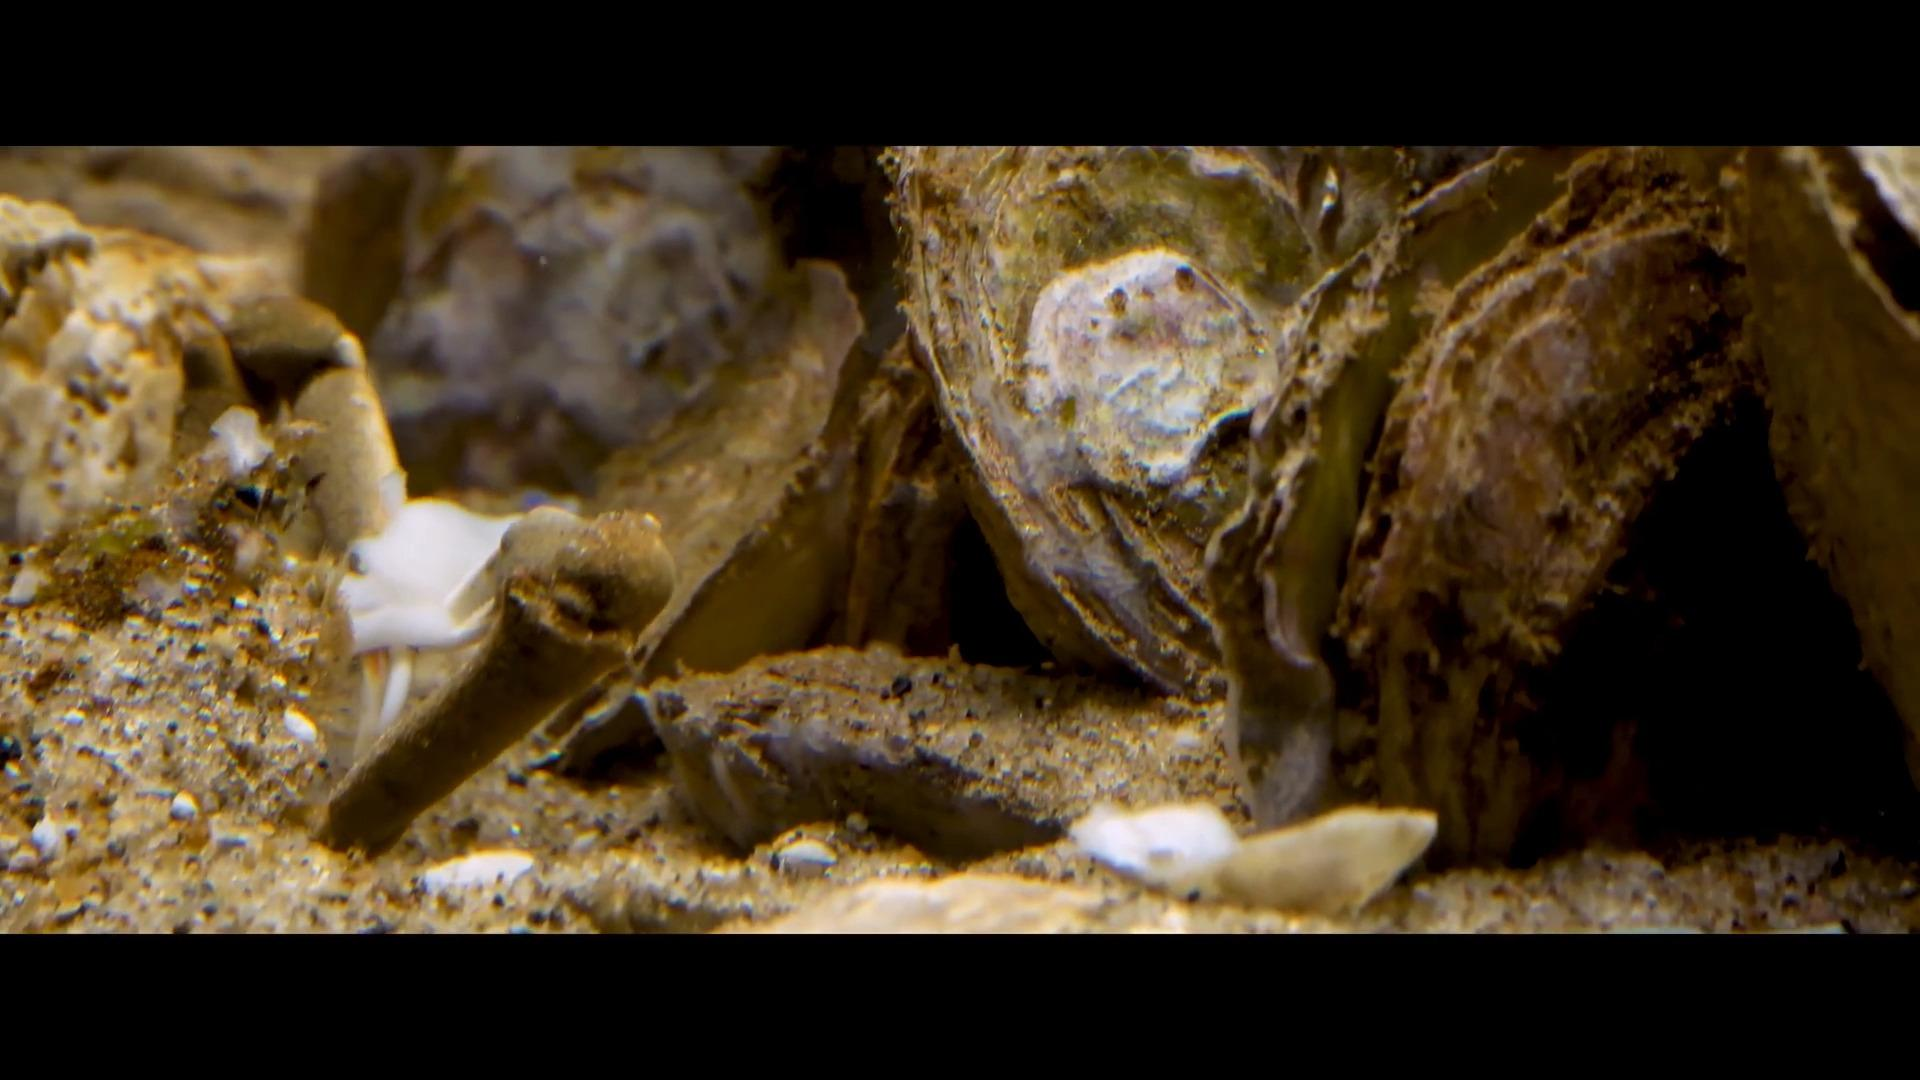Oyster: (886, 146, 1353, 717), (369, 148, 798, 475), (651, 649, 1242, 861), (578, 261, 881, 674), (1, 215, 309, 547)
